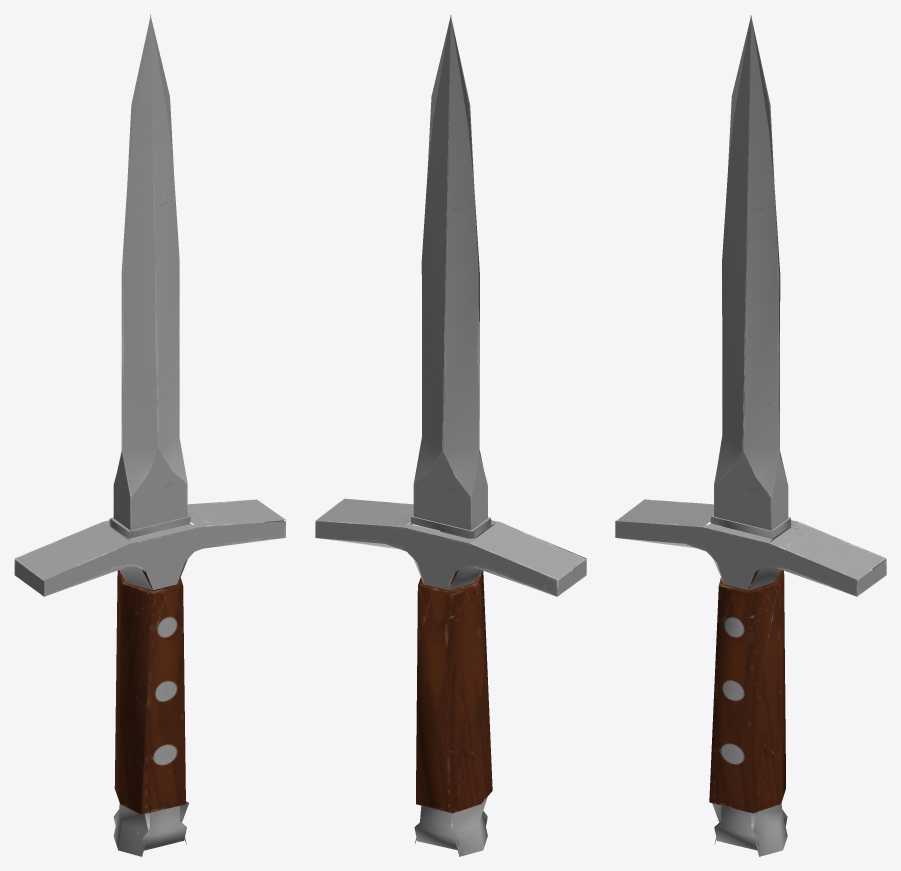
Rendered from dagger_lod1.glb.
The picture shows the model from 3 angles, left to right: view 1: azimuth 30°, elevation 25°; view 2: azimuth 150°, elevation 25°; view 3: azimuth 330°, elevation 25°; orthographic projection.
Visible parts, largest first — view 1: Dagger_LOD1_temp; view 2: Dagger_LOD1_temp; view 3: Dagger_LOD1_temp.
Boxes of the visible parts, x1=… form: Dagger_LOD1_temp: x1=14, y1=14, x2=286, y2=856; Dagger_LOD1_temp: x1=315, y1=15, x2=586, y2=856; Dagger_LOD1_temp: x1=615, y1=15, x2=886, y2=856.
Bounding box in the file's own units: 0.1542 × 0.5032 × 0.0372.
1 material, 1 textured.
